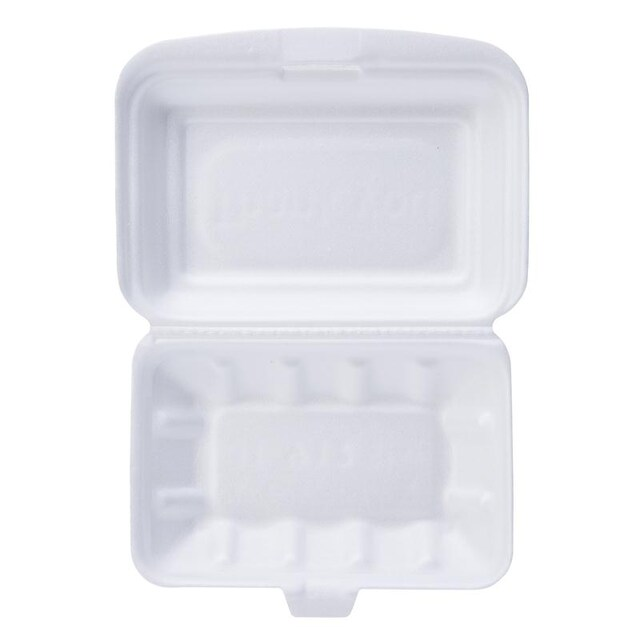Foam Box: (109, 22, 534, 623)
